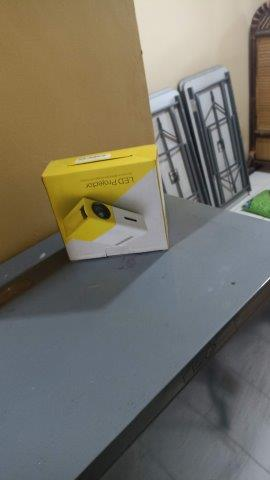kardus: (43, 145, 169, 260)
